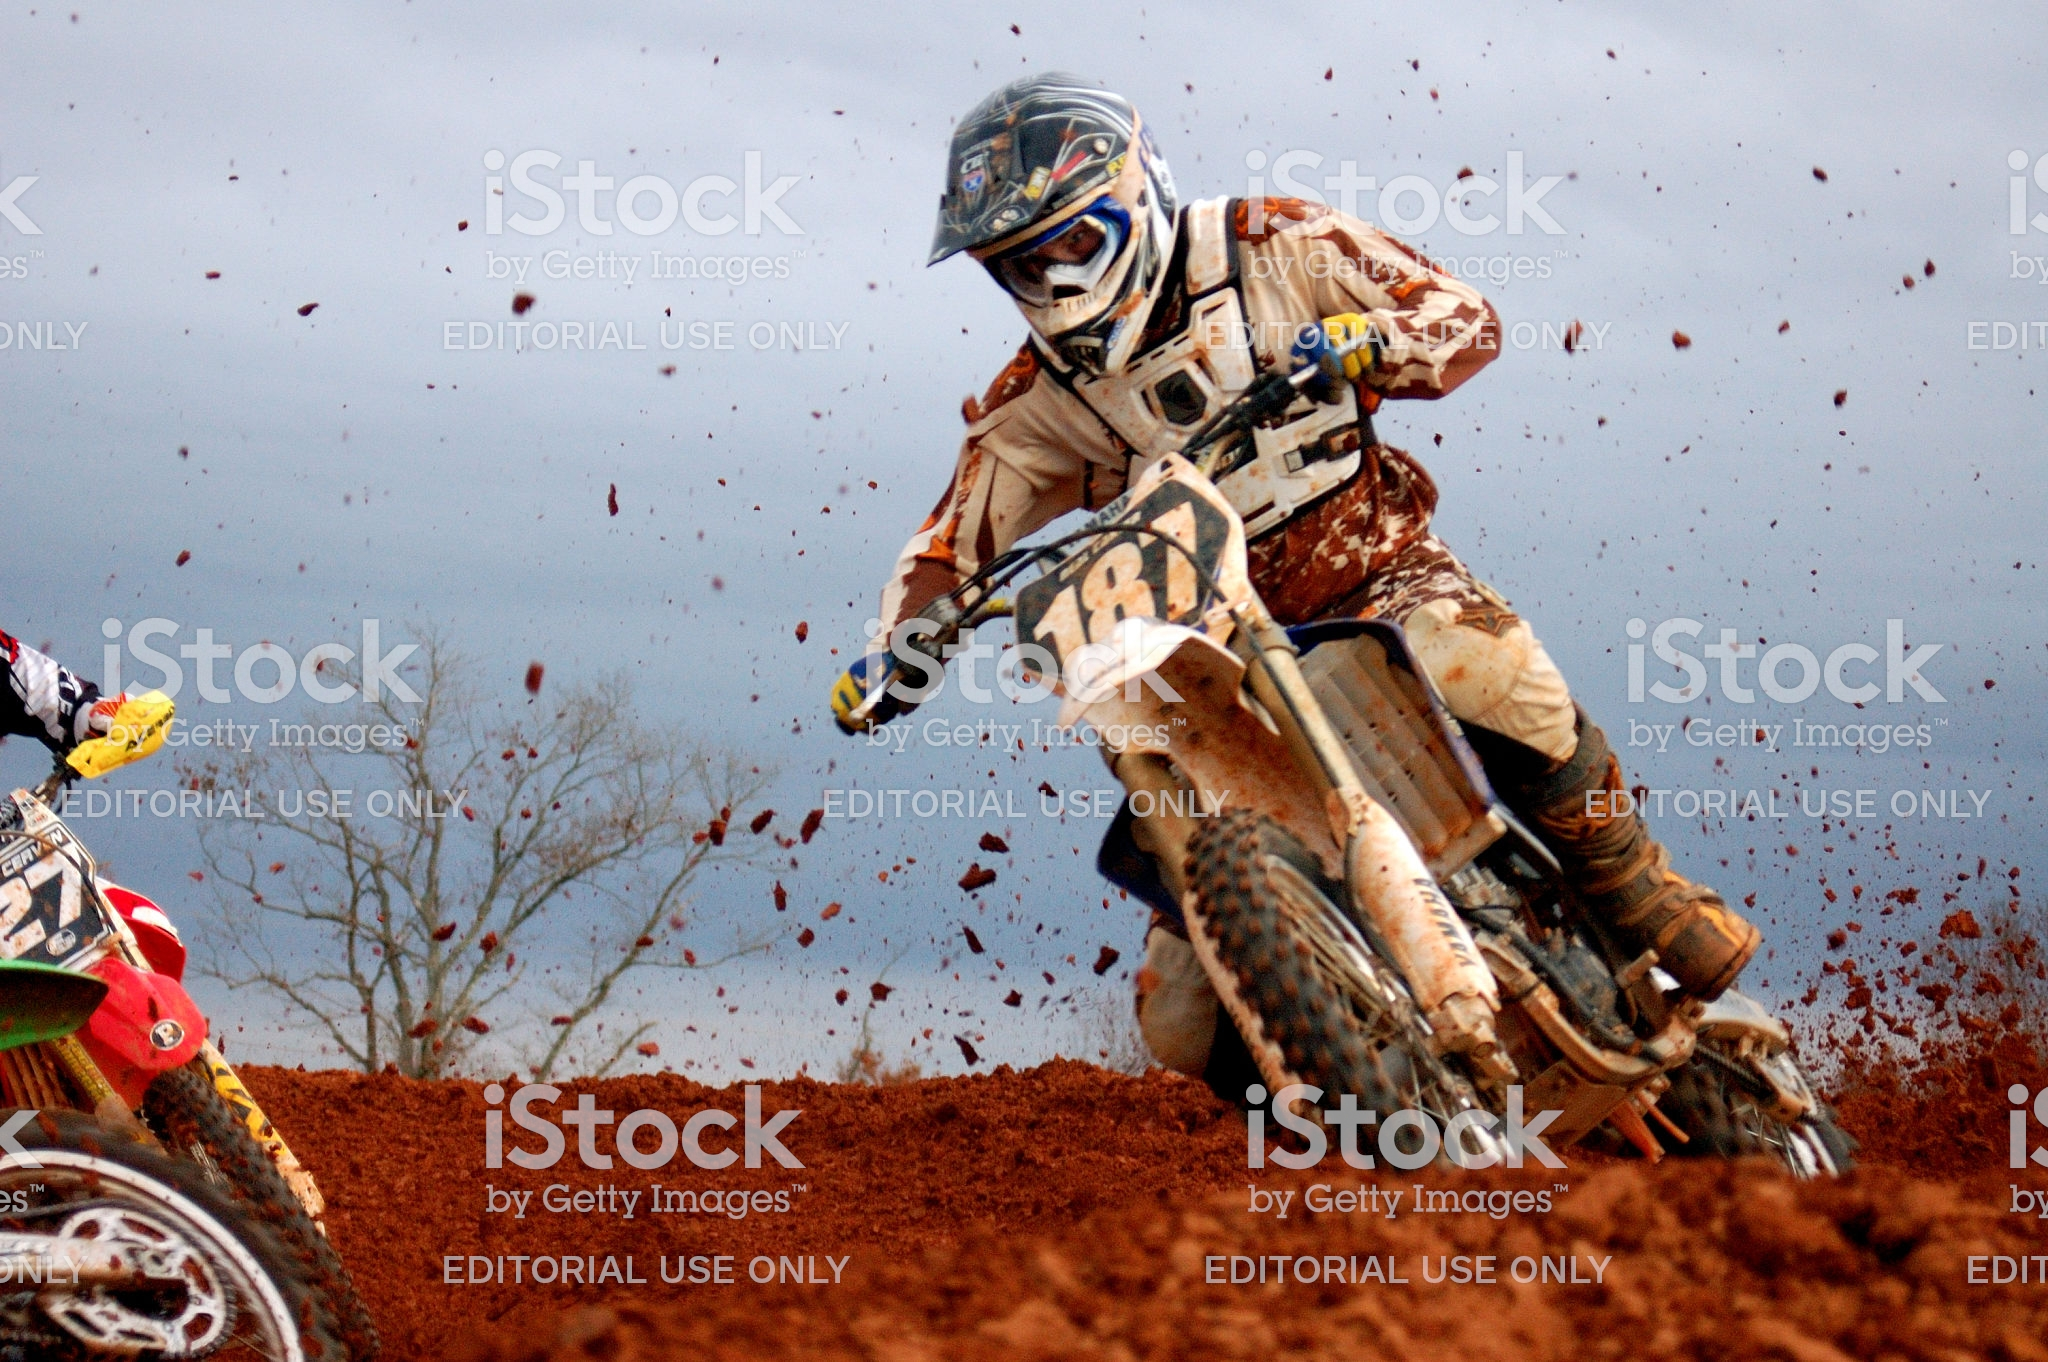helmet: (943, 87, 1193, 356)
